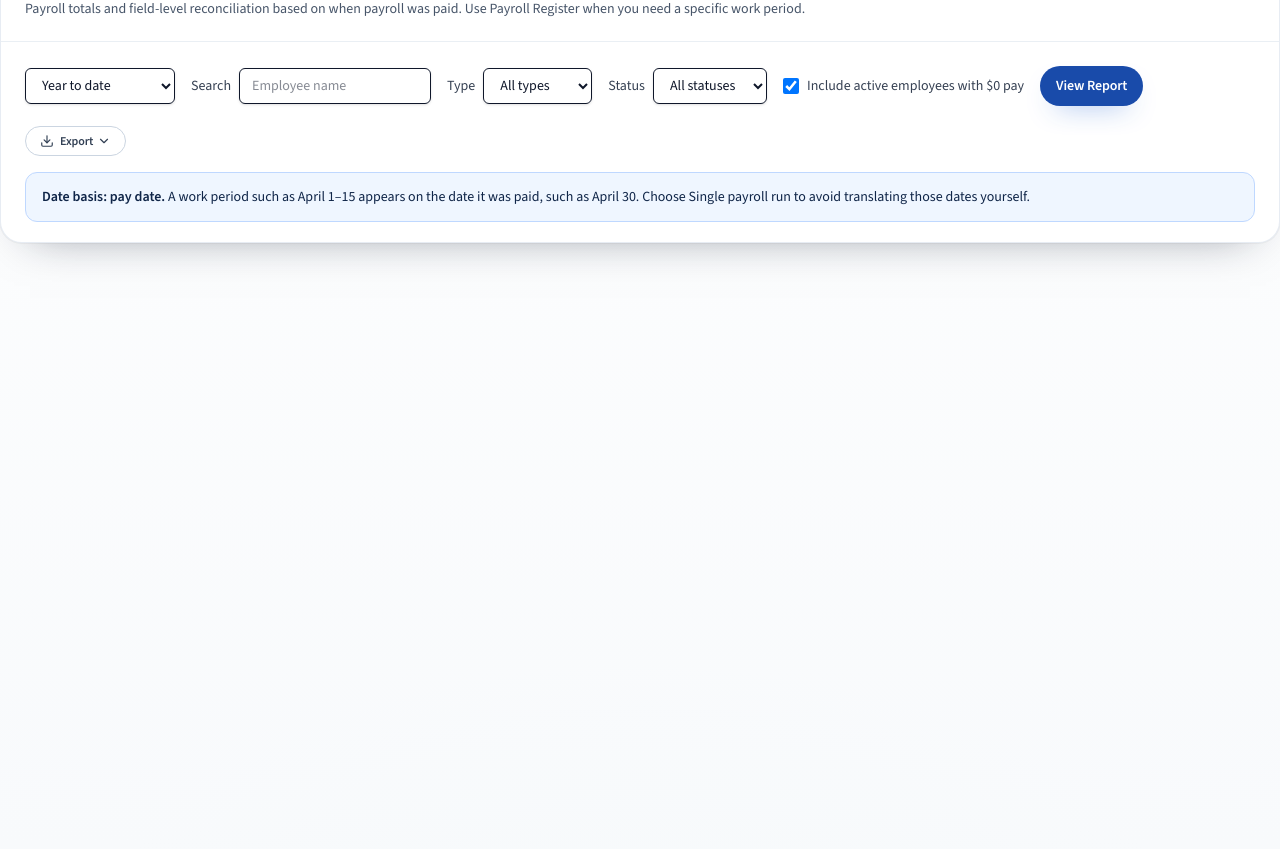
it: YtdSummaryPanel › keeps historical loan and conflicting 401(k) source labels visible without misclassifying them
Click the button "View Report" at (1092,86), box [1040,66,1143,106]
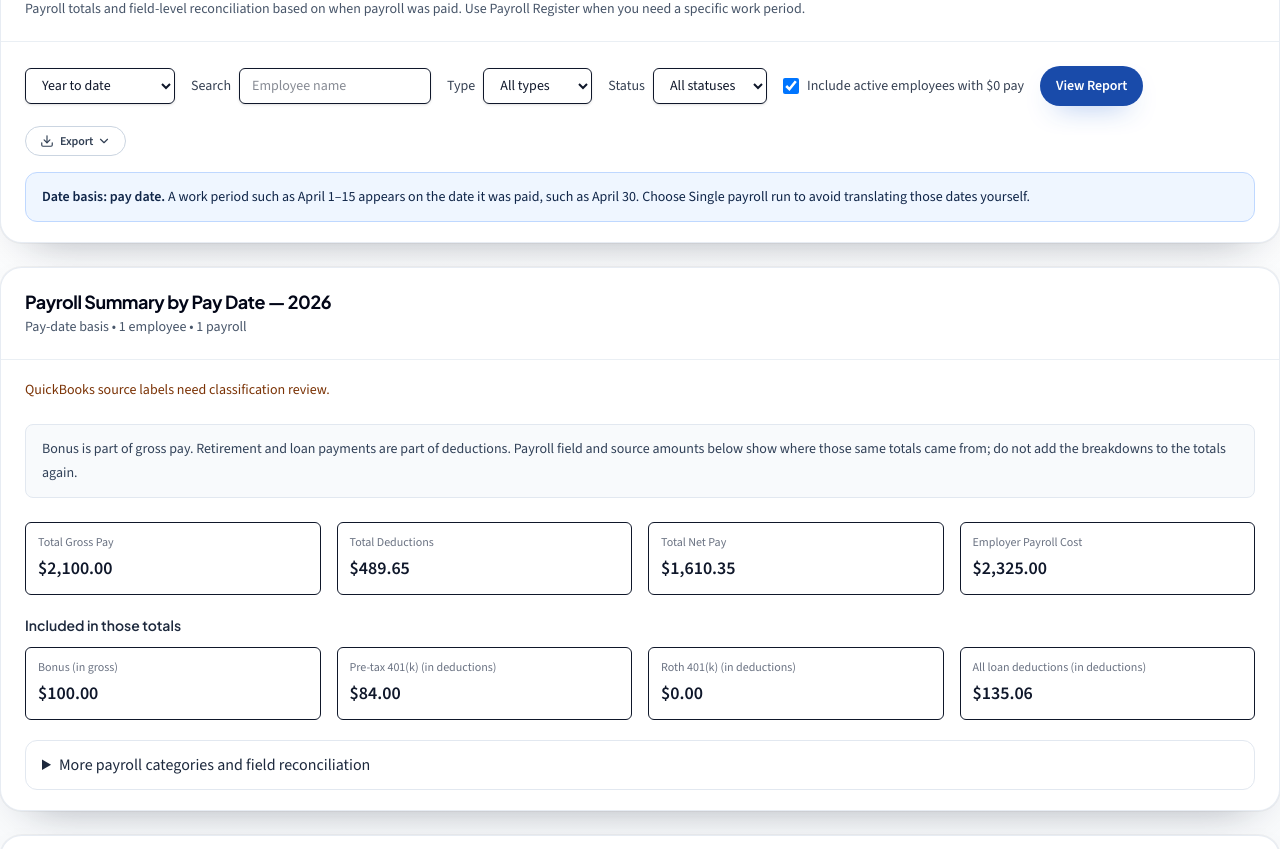
Expected: the heading "Payroll Summary by Pay Date — 2026" is shown, [25,290,331,313]
Expected: the text "QuickBooks source labels need classification review." is shown, [25,380,330,398]
Click the heading "More payroll categories and field reconciliation" at (215,764), box [59,754,370,774]
(page scrolled)
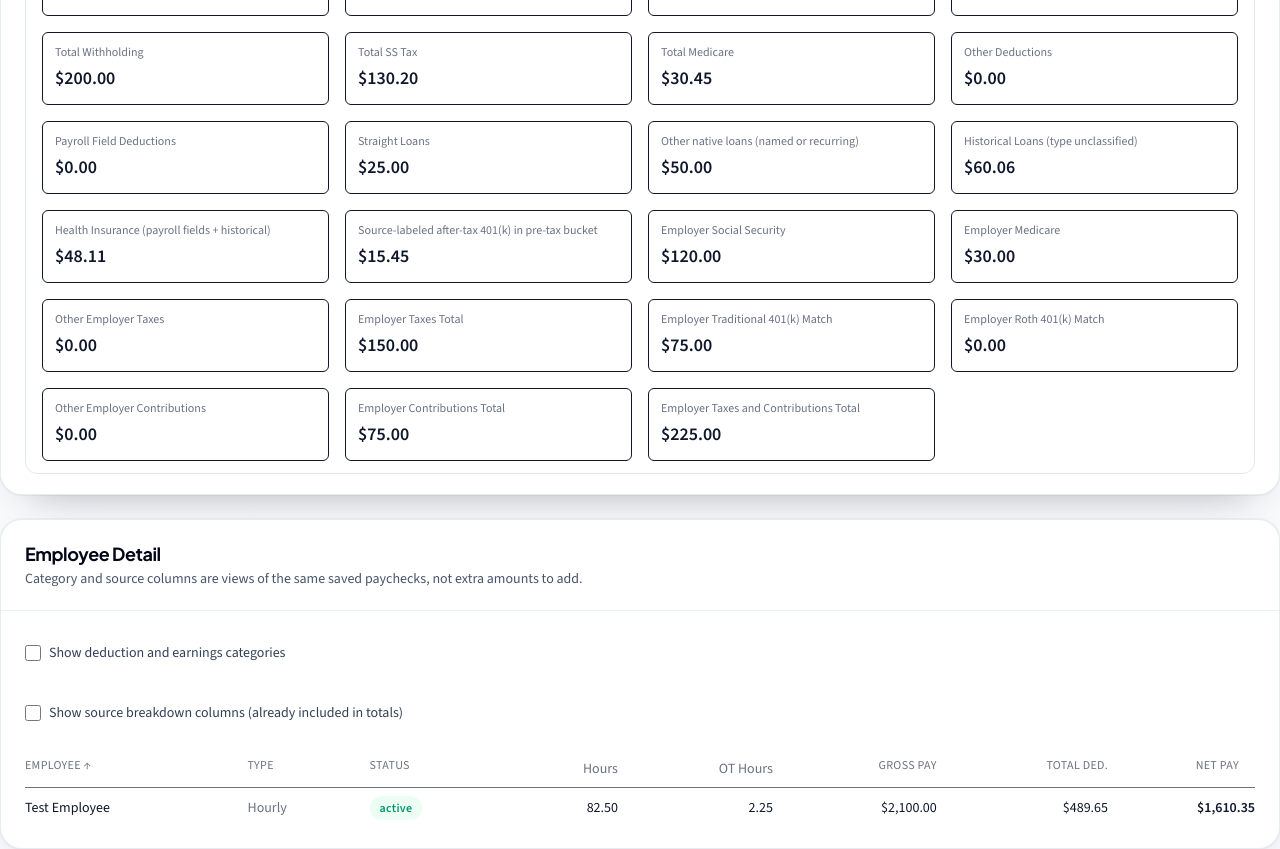
Expected: the text "$60.06" is shown, [964,154,1015,178]
Expected: the text "$48.11" is shown, [55,244,106,268]
Expected: the text "$15.45" is shown, [358,244,409,268]
Click the checkbox labelled "Show source breakdown columns (already included in totals)" at (33,713), box [25,705,41,721]
(page scrolled)
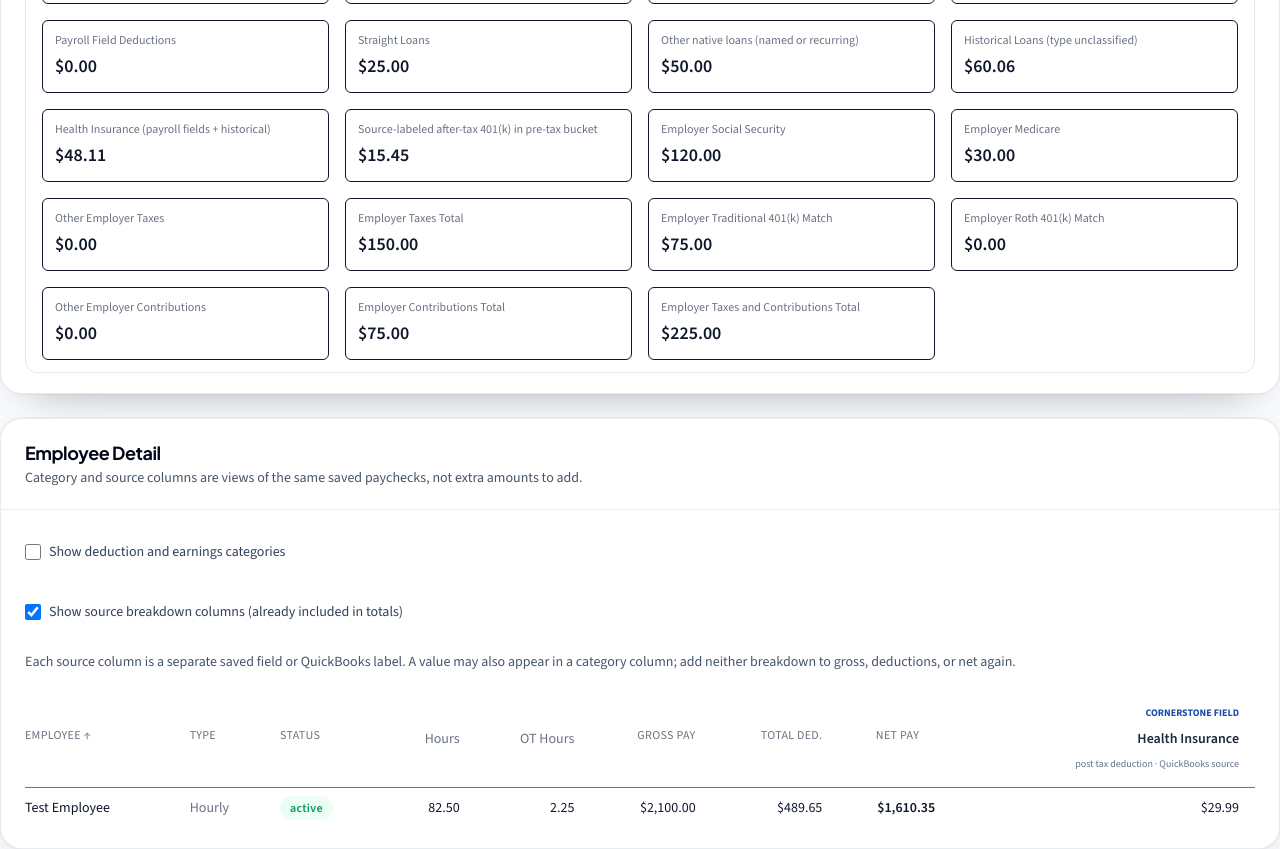
Expected: the text "post tax deduction · QuickBooks source" is shown, [1075,756,1239,770]
